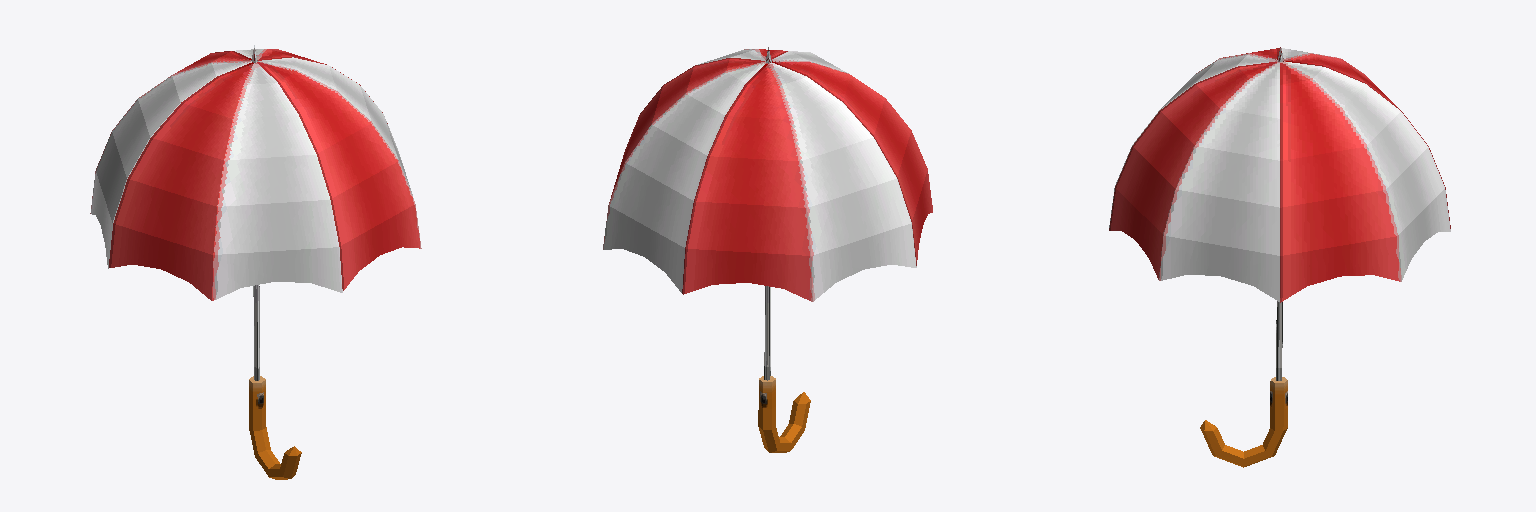
The picture shows the model from 3 angles: view 1: azimuth 30°, elevation 25°; view 2: azimuth 150°, elevation 25°; view 3: azimuth 270°, elevation 25°; orthographic projection.
Parts seen in each view (by area): view 1: mesh00122, mesh0011, mesh00132; view 2: mesh00122, mesh0011, mesh00132; view 3: mesh00122, mesh0011, mesh00132.
Boxes of the visible parts, x1=… form: mesh00122: x1=90, y1=49, x2=421, y2=300; mesh0011: x1=249, y1=376, x2=301, y2=479; mesh00132: x1=251, y1=45, x2=259, y2=380; mesh00122: x1=603, y1=49, x2=932, y2=301; mesh0011: x1=758, y1=376, x2=810, y2=452; mesh00132: x1=764, y1=47, x2=771, y2=380; mesh00122: x1=1109, y1=48, x2=1450, y2=302; mesh0011: x1=1200, y1=377, x2=1287, y2=467; mesh00132: x1=1276, y1=47, x2=1283, y2=380.
Bounding box in the file's own units: 11.7 × 15.89 × 11.7.
Materials: 1 (1 with a texture image).